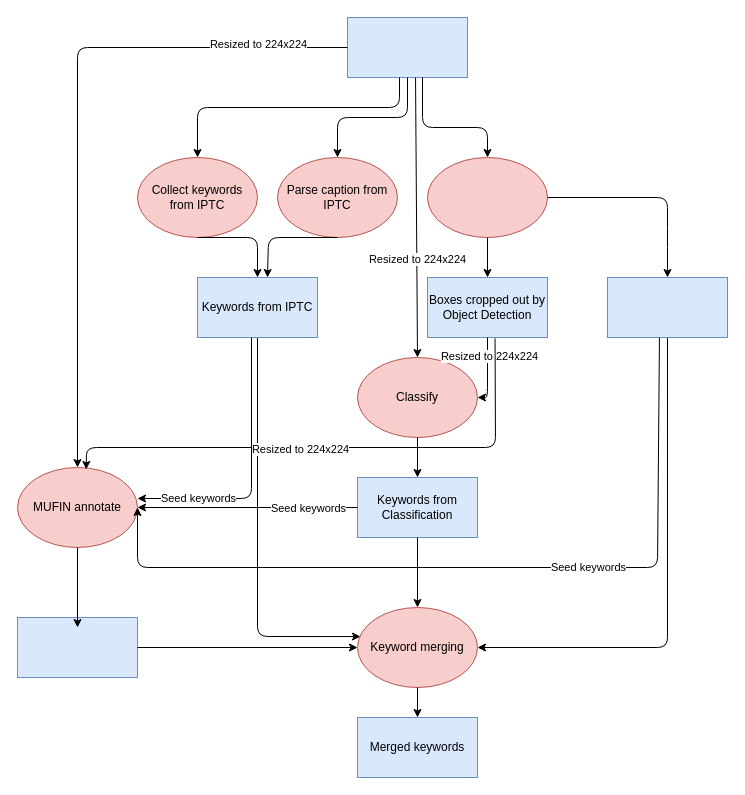
This 745x795 diagram has some shape labels left out. The shapes that lost their labels are listed below. From the top down, each one's centre as x and y in pixels, then its label:
the point at 407,47: Image
the point at 487,197: Detect Objects
the point at 667,307: Keywords from Object Detection
the point at 77,647: Keywords from MUFIN
